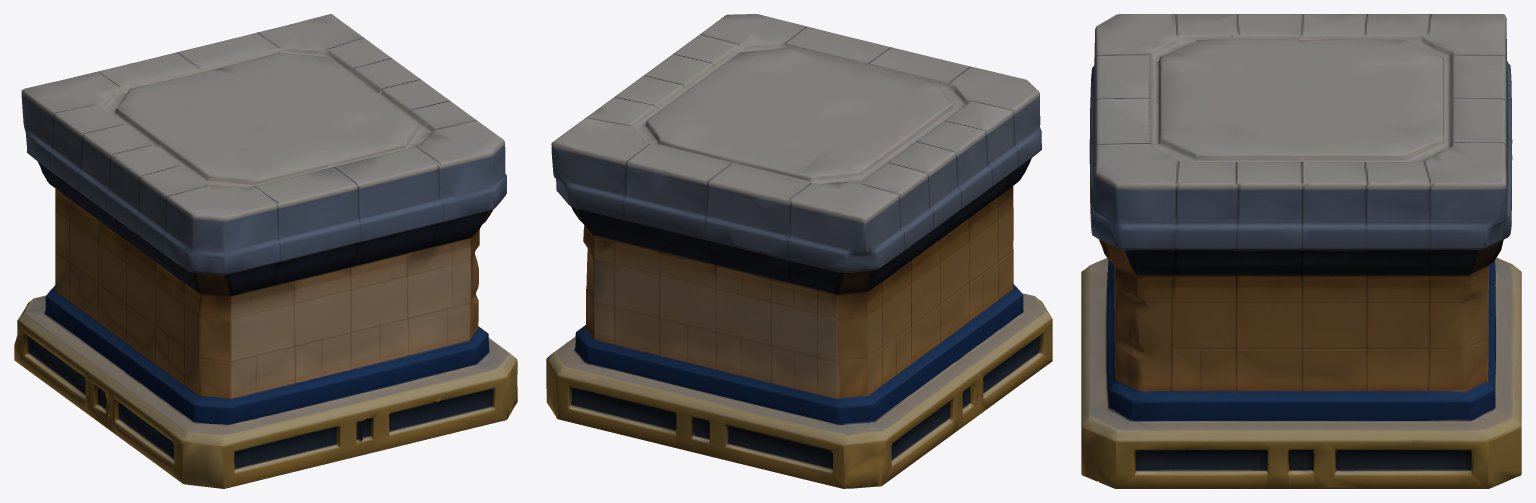
Rendered from platform.glb.
3 renders of one model, left to right at view 1: azimuth 30°, elevation 25°; view 2: azimuth 150°, elevation 25°; view 3: azimuth 270°, elevation 25°, orthographic. The views are drawn at different scales.
Parts seen in each view (by area): view 1: world; view 2: world; view 3: world.
Part boxes in pixels (left/top/right/bottom): world: left=14, top=14, right=517, bottom=488; world: left=546, top=14, right=1052, bottom=488; world: left=1081, top=14, right=1521, bottom=488.
Size of the model in its own units: 1.97 by 1.5 by 1.99.
1 material, 1 textured.
